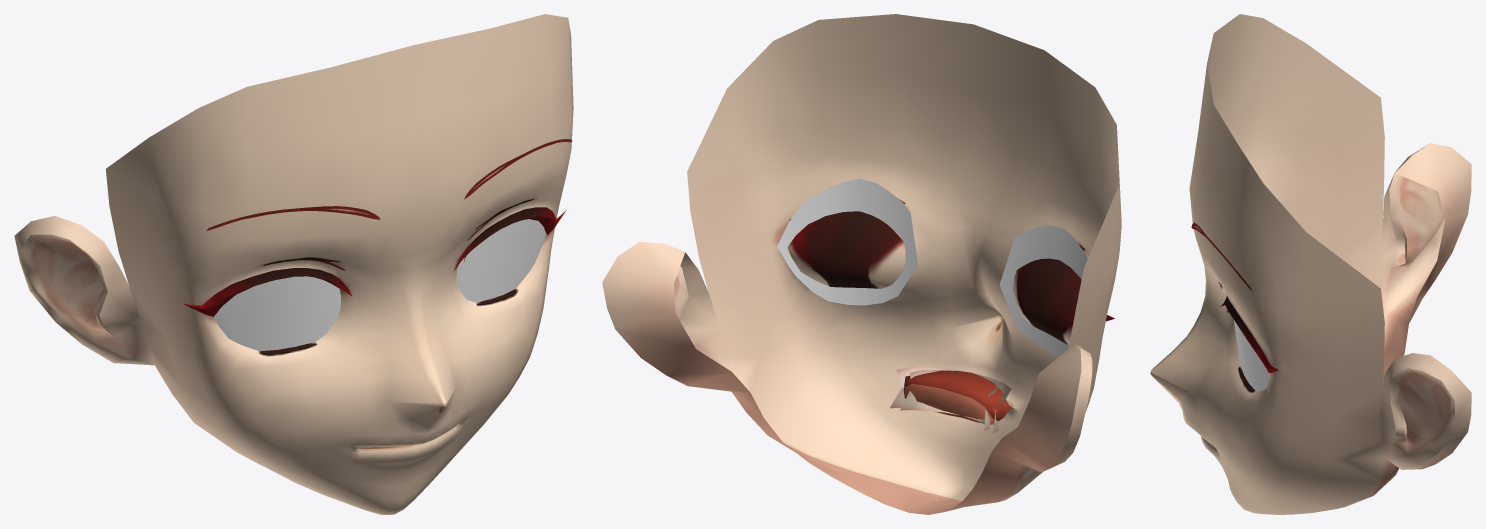
The model's file is Tori.fbx.
The picture shows the model from 3 angles, left to right: view 1: azimuth 30°, elevation 25°; view 2: azimuth 150°, elevation 25°; view 3: azimuth 270°, elevation 25°; orthographic projection. The views are drawn at different scales.
Parts seen in each view (by area): view 1: M_Head, M_Eye_B_Def, M_Mth_B_Def, M_PupALL_R_A_Def, M_PupALL_L_A_Def, M_Brw_B_Def; view 2: M_Head, M_Eye_B_Def, M_Mth_B_Def, M_PupALL_L_A_Def, M_PupALL_R_A_Def; view 3: M_Head, M_Eye_B_Def, M_Mth_B_Def, M_PupALL_L_A_Def.
Part boxes in pixels (bbox=[...]): M_Head: bbox=[14, 14, 573, 403]; M_Eye_B_Def: bbox=[158, 109, 573, 410]; M_Mth_B_Def: bbox=[155, 334, 537, 514]; M_PupALL_R_A_Def: bbox=[214, 276, 340, 351]; M_PupALL_L_A_Def: bbox=[456, 219, 545, 302]; M_Brw_B_Def: bbox=[206, 139, 572, 231]; M_Head: bbox=[602, 14, 1121, 472]; M_Eye_B_Def: bbox=[735, 125, 1121, 411]; M_Mth_B_Def: bbox=[732, 318, 1046, 514]; M_PupALL_L_A_Def: bbox=[777, 178, 917, 305]; M_PupALL_R_A_Def: bbox=[999, 225, 1087, 356]; M_Head: bbox=[1189, 14, 1471, 469]; M_Eye_B_Def: bbox=[1150, 101, 1303, 456]; M_Mth_B_Def: bbox=[1150, 314, 1408, 514]; M_PupALL_L_A_Def: bbox=[1234, 320, 1269, 390].
Bounding box in the file's own units: 0.2085 × 0.1879 × 0.1223.
5 materials, 3 textured.
